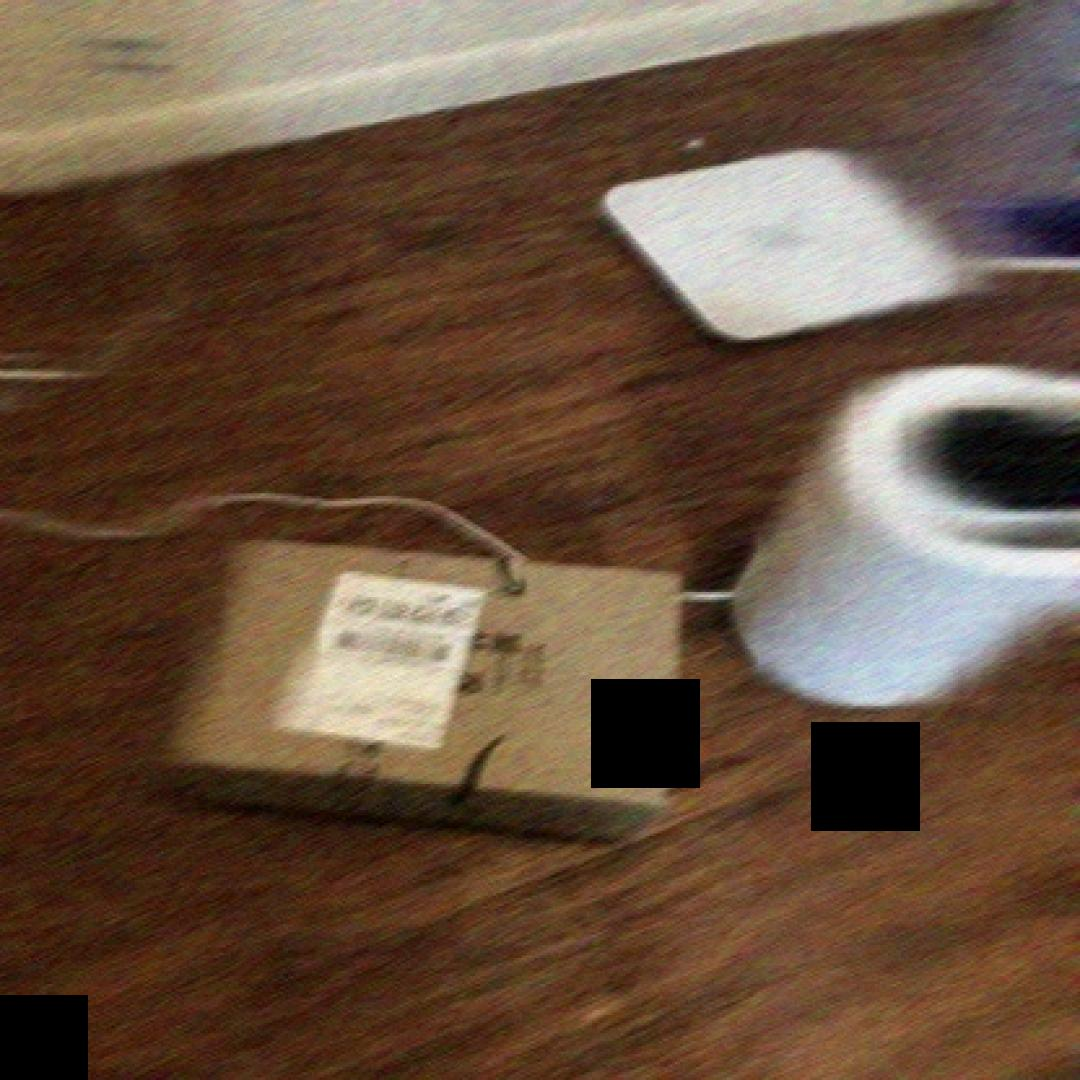package: (174, 524, 706, 860)
